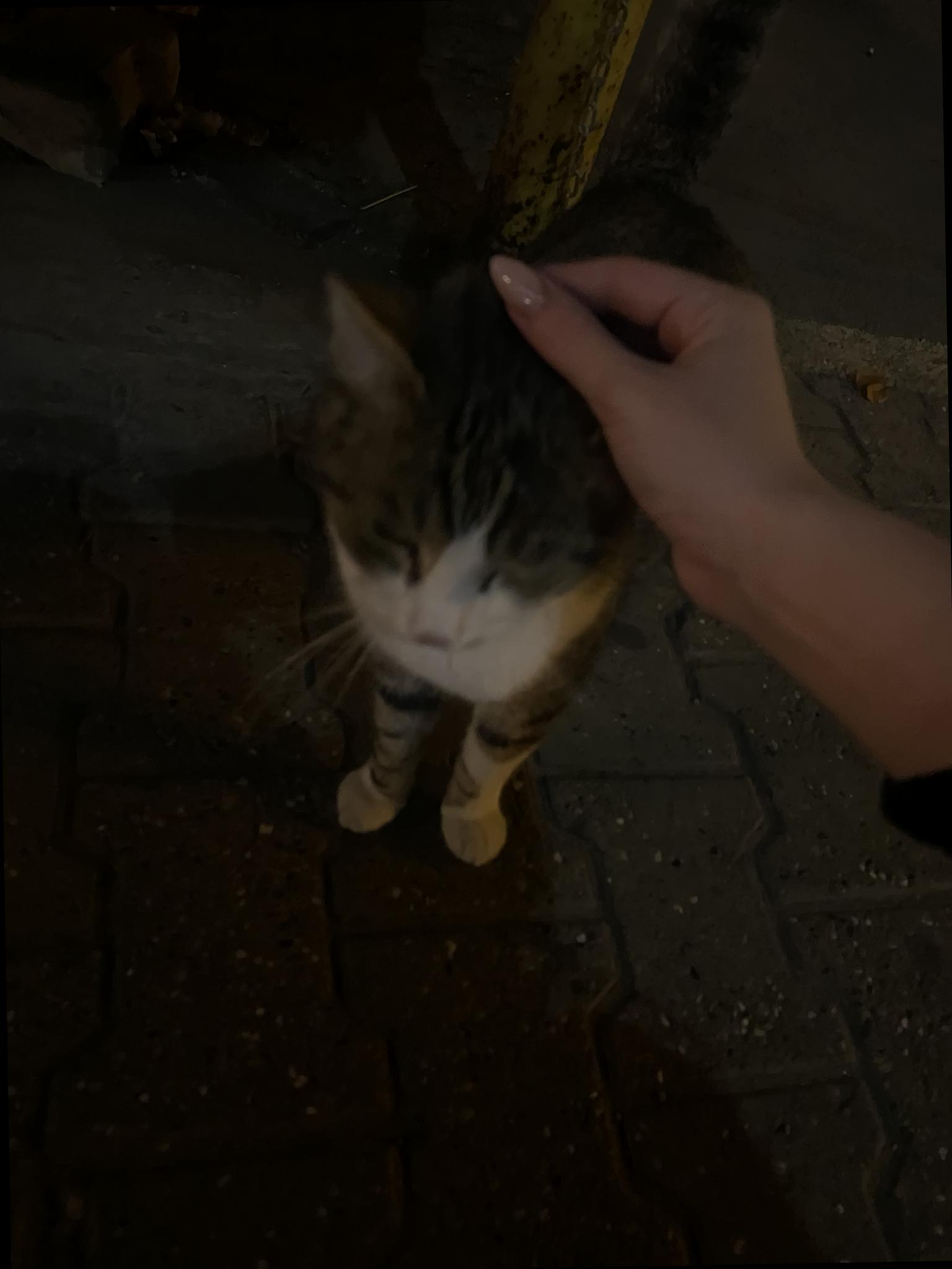macka: (306, 166, 791, 868)
